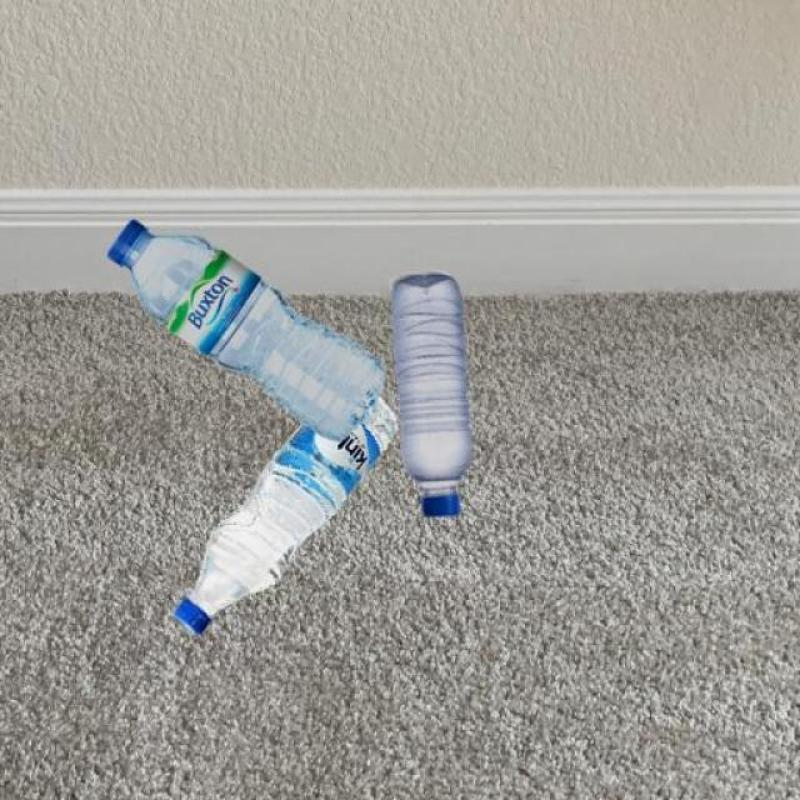botella: (104, 215, 390, 440), (173, 382, 397, 637), (386, 274, 474, 518)
